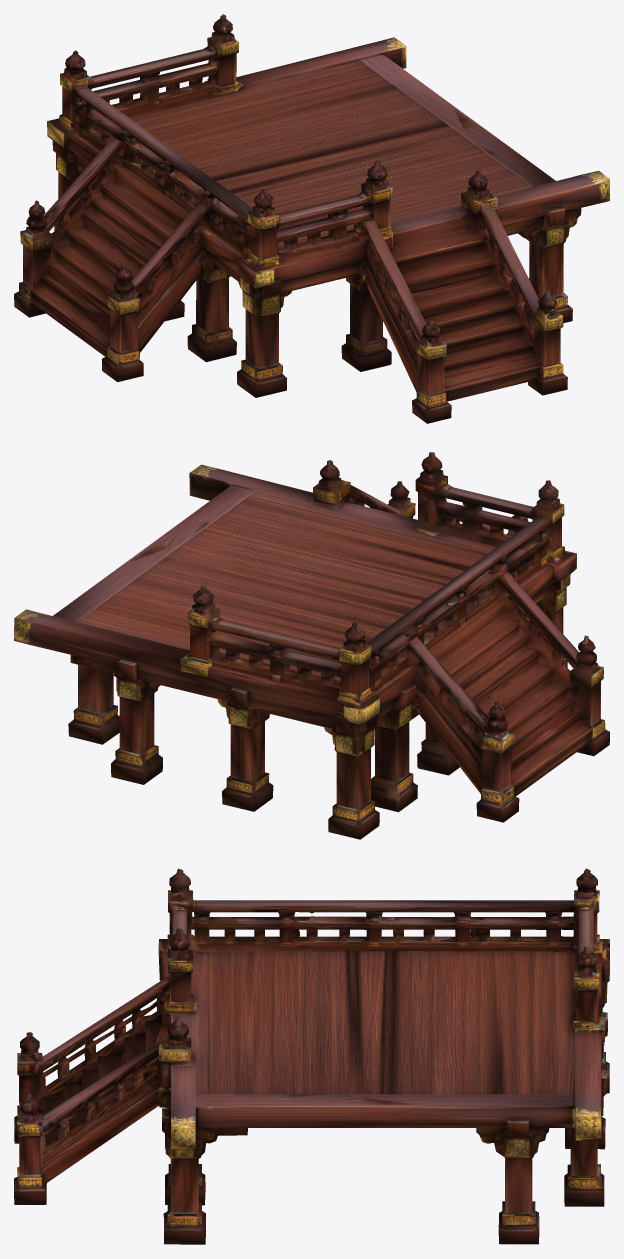
Rendered from SingleStareBase_LOD1.fbx.
The picture shows the model from 3 angles, top to bottom: view 1: azimuth 30°, elevation 25°; view 2: azimuth 150°, elevation 25°; view 3: azimuth 270°, elevation 25°; orthographic projection. The views are drawn at different scales.
Visible parts, largest first — view 1: SingleStareBase_LOD1; view 2: SingleStareBase_LOD1; view 3: SingleStareBase_LOD1.
Boxes of the visible parts, x1,y1,x2,y2 form: SingleStareBase_LOD1: [14, 14, 609, 423]; SingleStareBase_LOD1: [14, 452, 609, 839]; SingleStareBase_LOD1: [14, 868, 609, 1244].
Size of the model in its own units: 7.74 by 3.35 by 8.3.
1 material, 1 textured.
